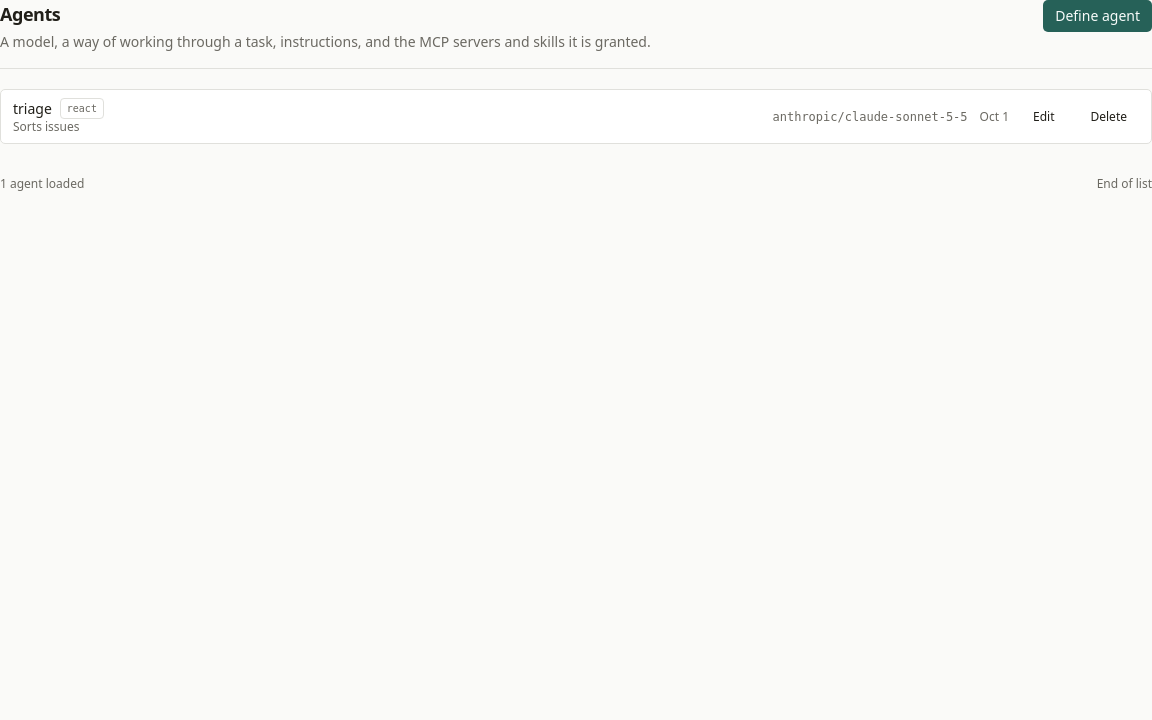
Test: shows the brain's refusal in the form
The image size is (1152, 720).
Click the button "Define agent". click: (1098, 16)
box: [1043,0,1151,32]
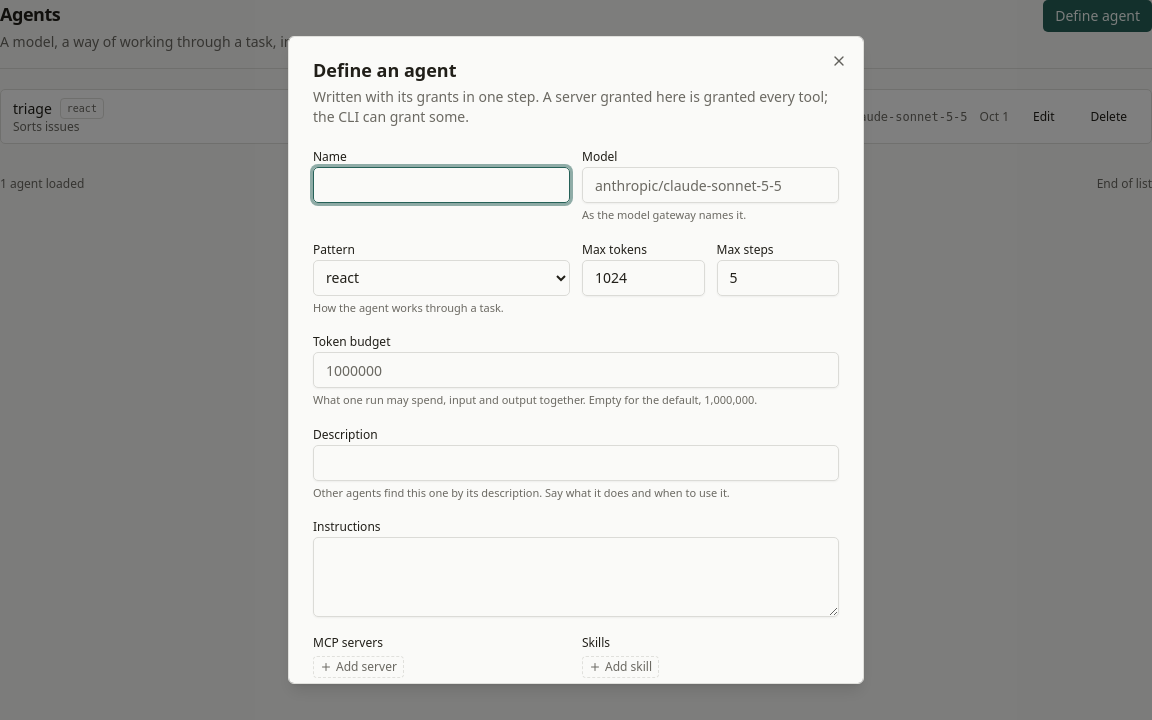
Type "x" into the field labelled "Name". click: (442, 185)
box: [313,167,570,203]
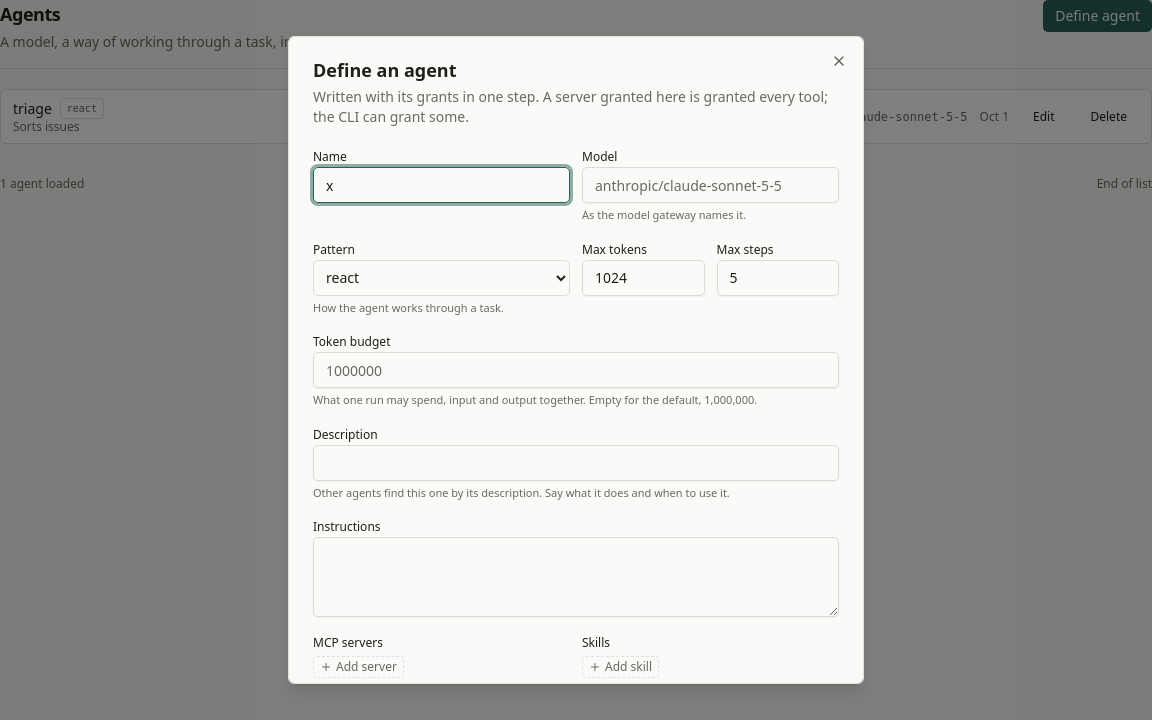
Type "m" into the field labelled "Model". click: (710, 185)
box: [582,167,839,203]
(page scrolled)
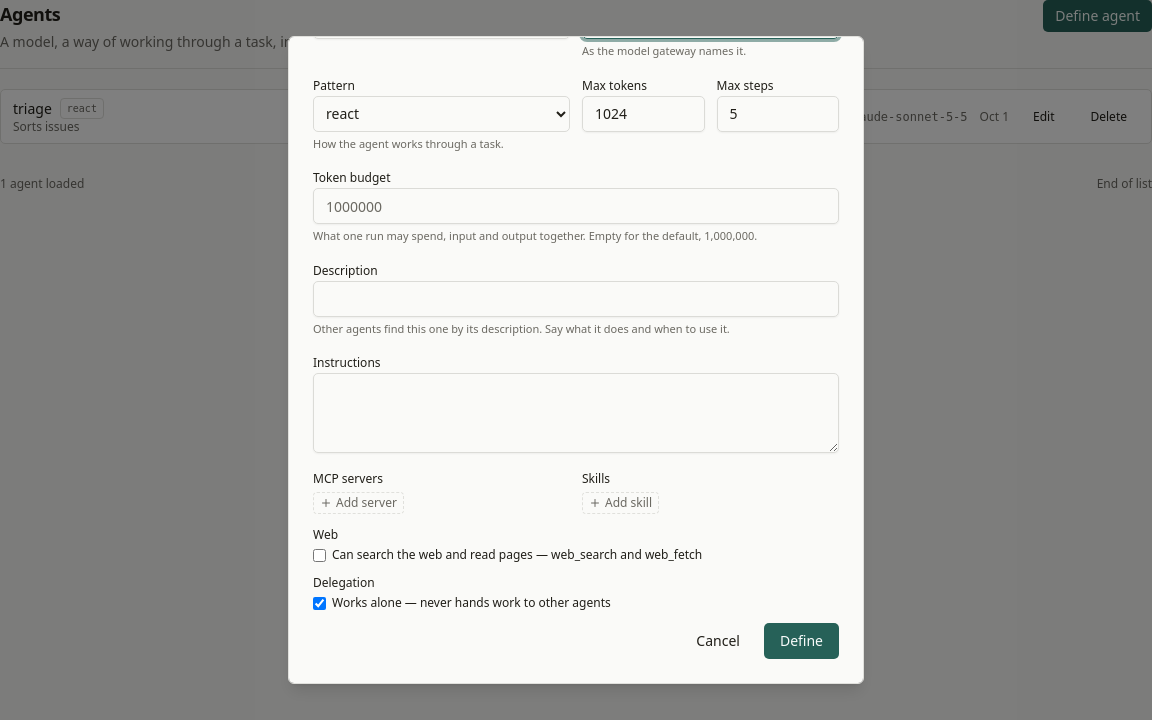
Click the button "Define". click: (801, 641)
box: [764,623,839,659]
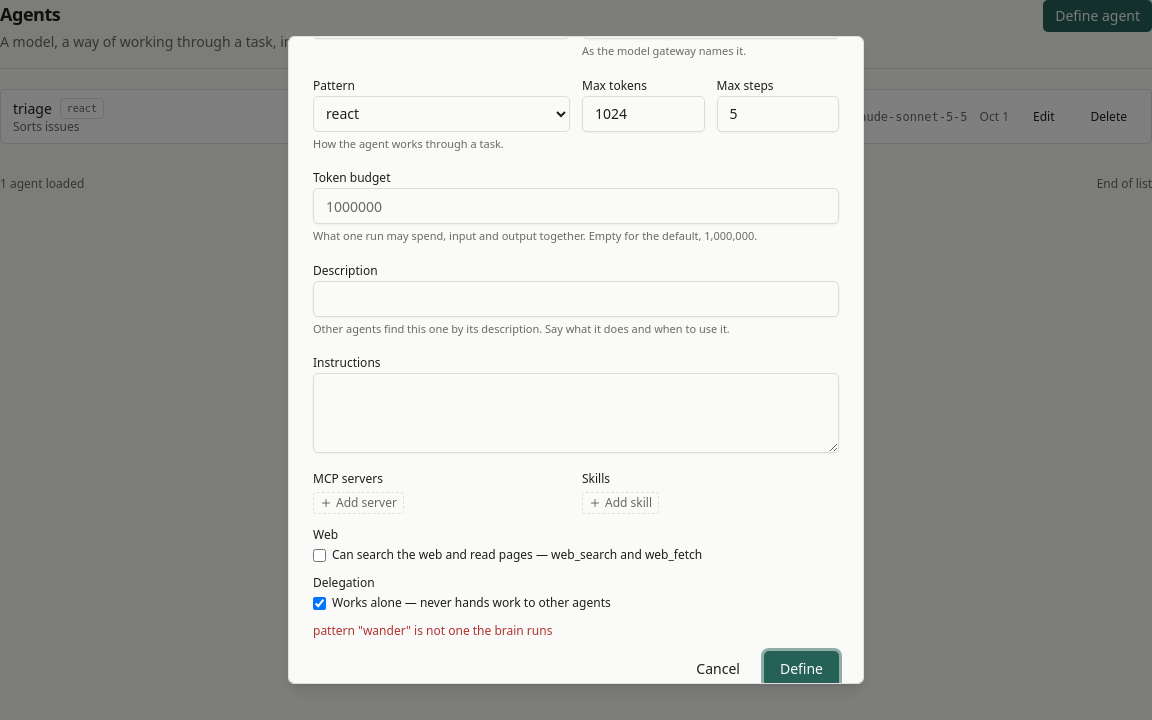
Expected: the message shows "is not one the brain runs", [313,622,552,639]
